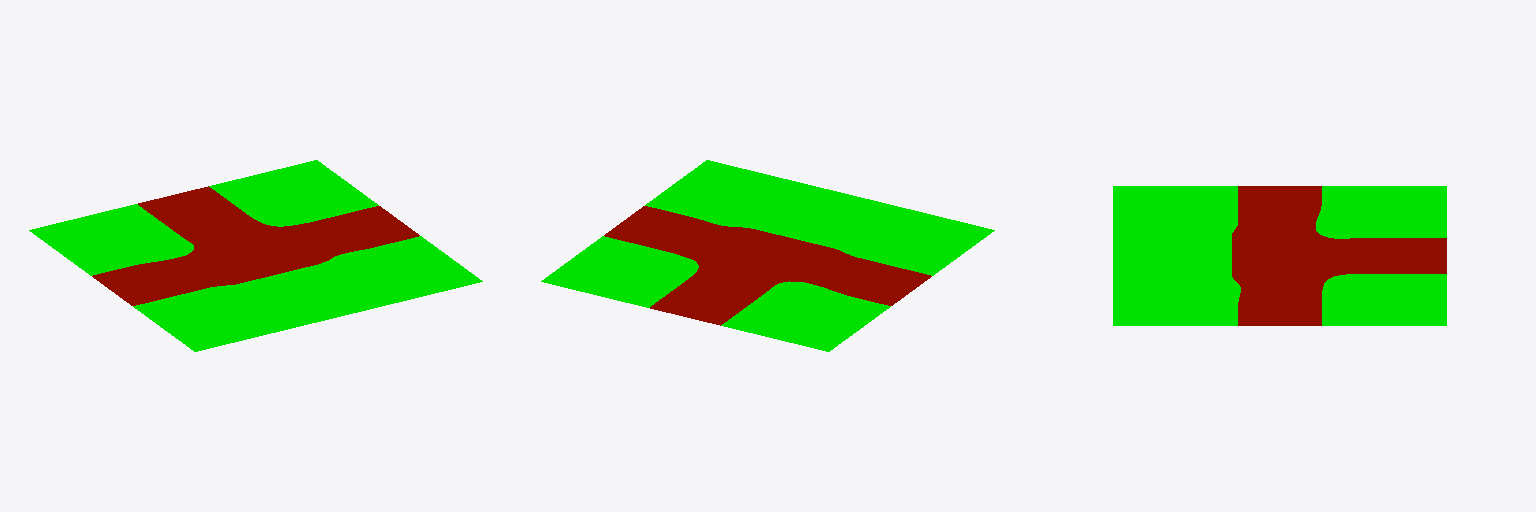
File: Junction.obj
3 renders of one model, left to right at view 1: azimuth 30°, elevation 25°; view 2: azimuth 150°, elevation 25°; view 3: azimuth 270°, elevation 25°, orthographic.
Size of the model in its own units: 20 by 0 by 20.